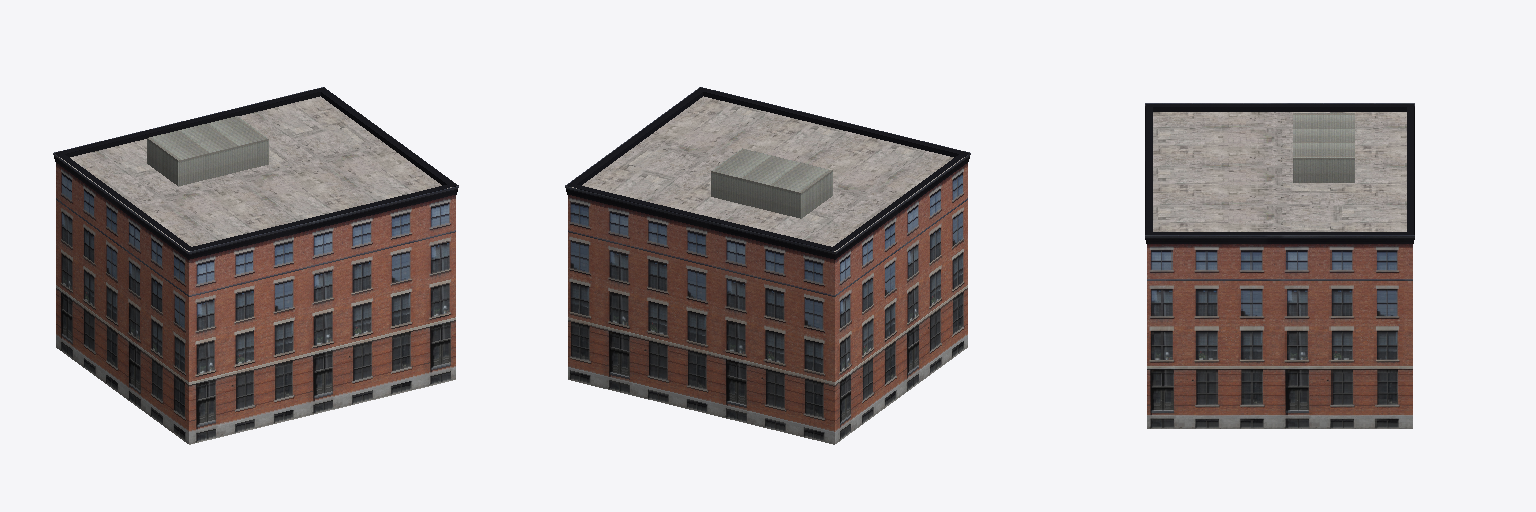
3 renders of one model, left to right at view 1: azimuth 30°, elevation 25°; view 2: azimuth 150°, elevation 25°; view 3: azimuth 270°, elevation 25°, orthographic.
Parts seen in each view (by area): view 1: building_30; view 2: building_30; view 3: building_30.
Part boxes in pixels (left/top/right/bottom): building_30: left=53, top=87, right=458, bottom=444; building_30: left=565, top=87, right=970, bottom=444; building_30: left=1145, top=103, right=1414, bottom=428.
Size of the model in its own units: 68.2 by 51.93 by 59.05.
1 materials, 1 textured.